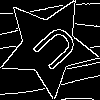U: (23, 21, 81, 79)
